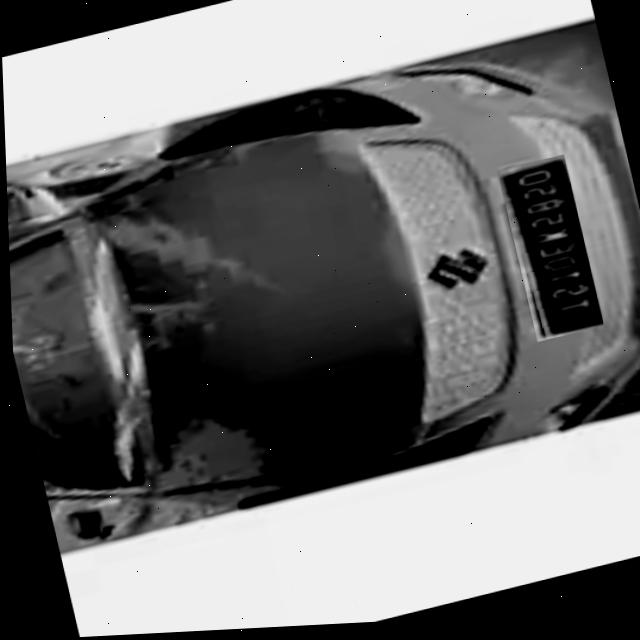Non_registered: (496, 158, 601, 348)
